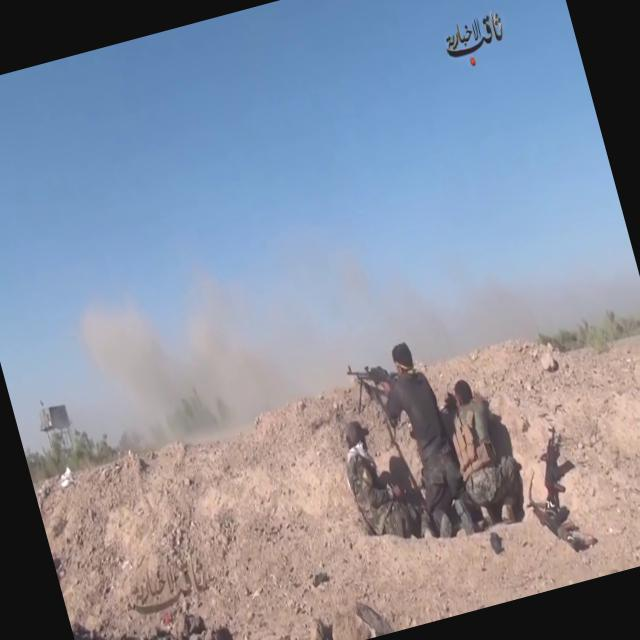long weapon: (331, 348, 400, 417)
